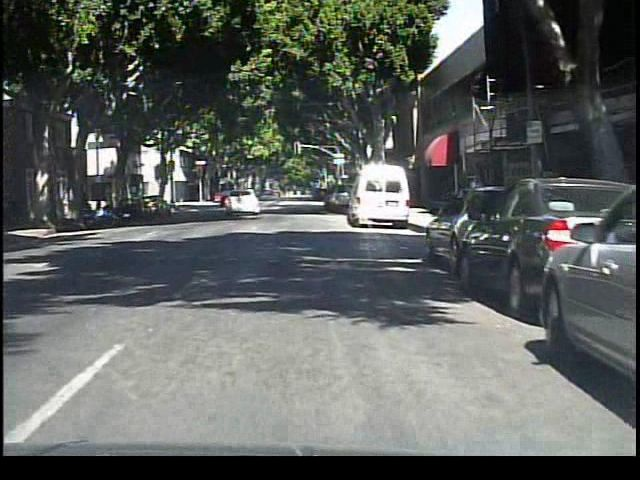person: (460, 167, 489, 227), (267, 176, 287, 209)
